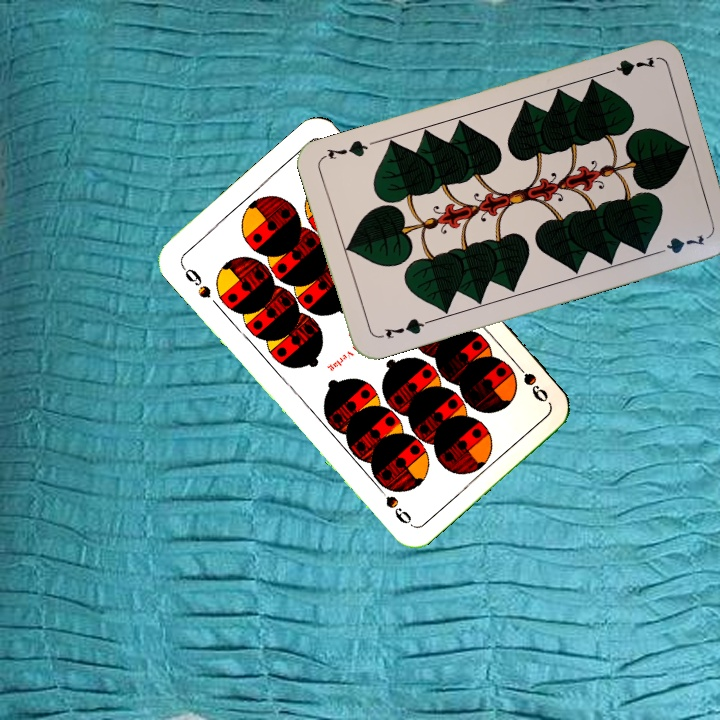G7: (374, 314, 432, 342), (598, 52, 657, 79)
S9: (505, 356, 551, 405), (176, 260, 214, 301)
